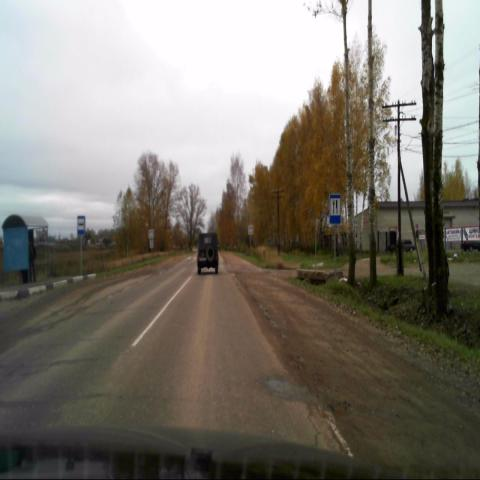5_16: (77, 216, 85, 237)
7_7: (329, 194, 341, 225)
